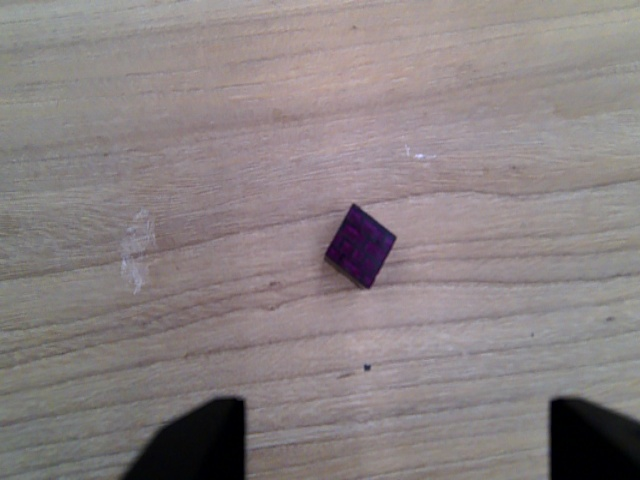brick: (320, 203, 399, 294)
